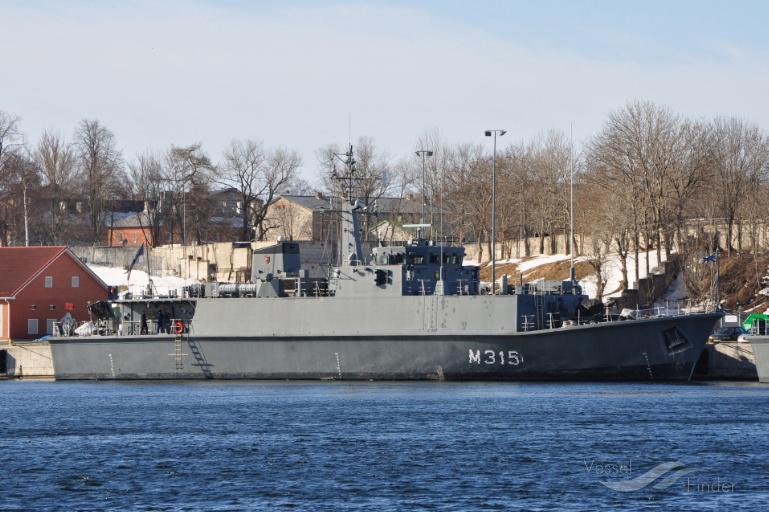OCR: (469, 340, 526, 370)
